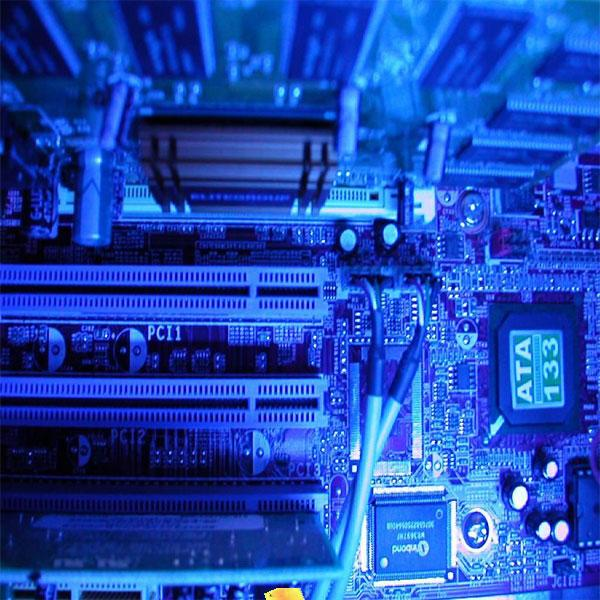componente_T: (260, 586, 308, 600)
